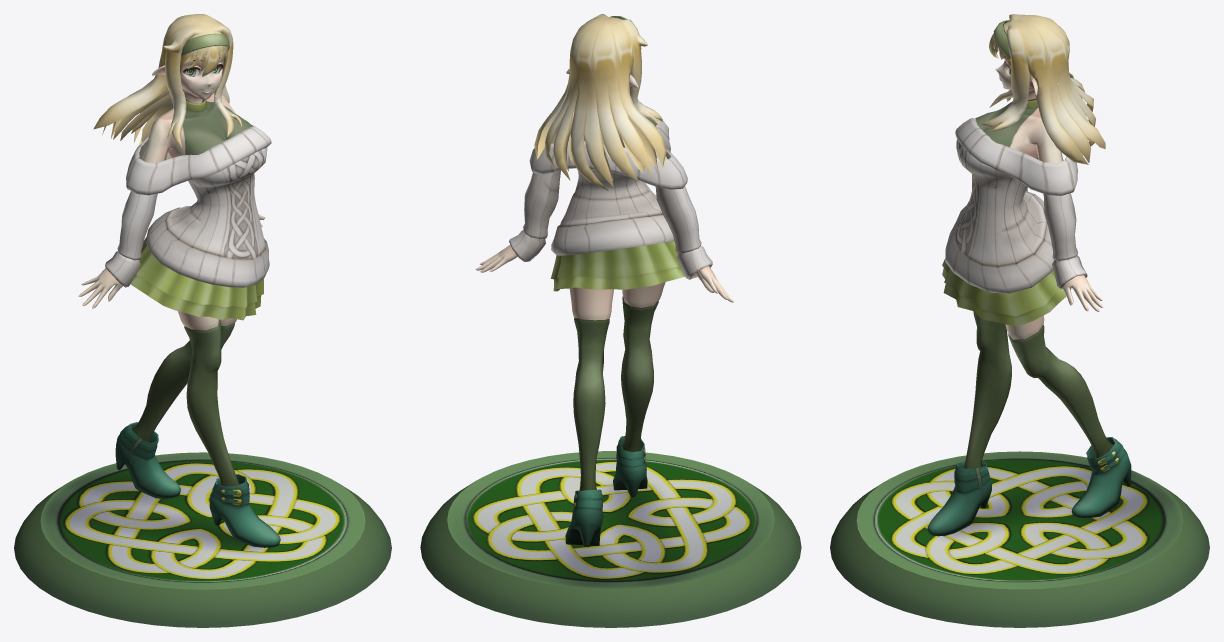
The model's file is elf.glb.
The picture shows the model from 3 angles, left to right: view 1: azimuth 30°, elevation 25°; view 2: azimuth 150°, elevation 25°; view 3: azimuth 270°, elevation 25°; orthographic projection.
Visible parts, largest first — view 1: Mesh_6, Mesh_3, Mesh_5, Mesh_2, Mesh_4, Mesh_1; view 2: Mesh_6, Mesh_3, Mesh_5, Mesh_2, Mesh_4; view 3: Mesh_6, Mesh_3, Mesh_5, Mesh_4, Mesh_2.
Boxes of the visible parts, x1=… form: Mesh_6: x1=14, y1=452, x2=391, y2=627; Mesh_3: x1=78, y1=89, x2=280, y2=547; Mesh_5: x1=93, y1=14, x2=241, y2=147; Mesh_2: x1=130, y1=237, x2=263, y2=320; Mesh_4: x1=126, y1=125, x2=271, y2=195; Mesh_1: x1=152, y1=55, x2=223, y2=100; Mesh_6: x1=420, y1=451, x2=801, y2=627; Mesh_3: x1=475, y1=111, x2=733, y2=547; Mesh_5: x1=534, y1=14, x2=666, y2=191; Mesh_2: x1=551, y1=241, x2=684, y2=291; Mesh_4: x1=529, y1=119, x2=687, y2=291; Mesh_6: x1=830, y1=451, x2=1209, y2=627; Mesh_3: x1=927, y1=89, x2=1131, y2=536; Mesh_5: x1=981, y1=14, x2=1105, y2=164; Mesh_4: x1=955, y1=118, x2=1077, y2=195; Mesh_2: x1=942, y1=258, x2=1066, y2=326.
Size of the model in its own units: 28.22 by 43.75 by 28.22.
4 materials, 4 textured.
